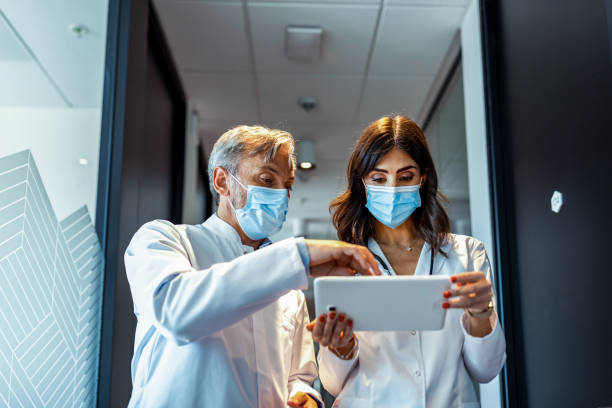with mask: (351, 134, 433, 233), (216, 140, 298, 239)
